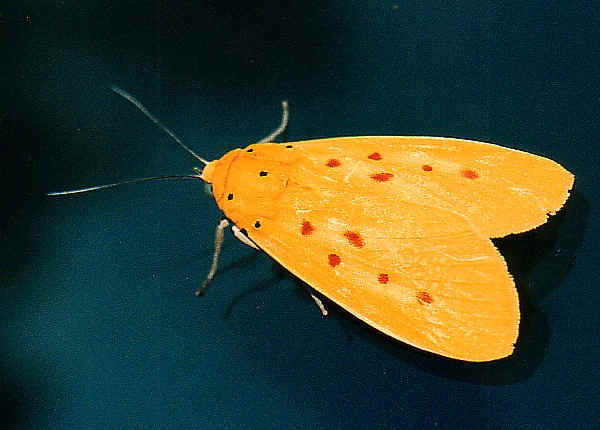Agape chloropyga: (43, 69, 577, 365)
moth: (45, 71, 579, 367)
